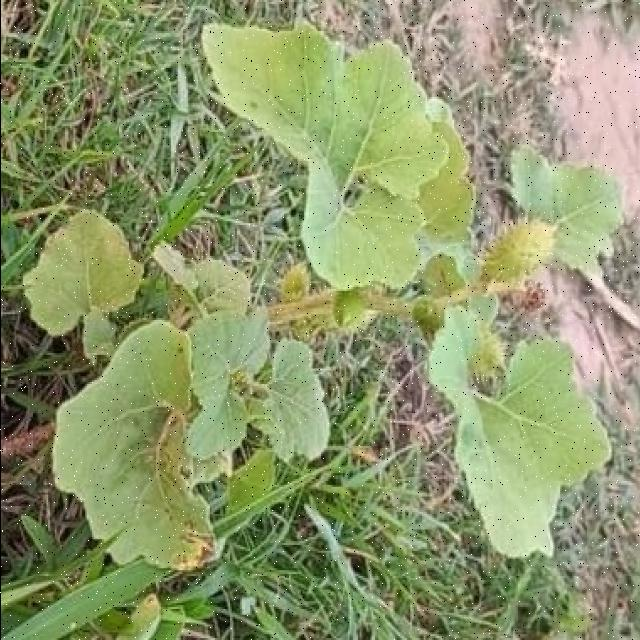weed: (201, 23, 620, 559), (19, 211, 327, 572)
